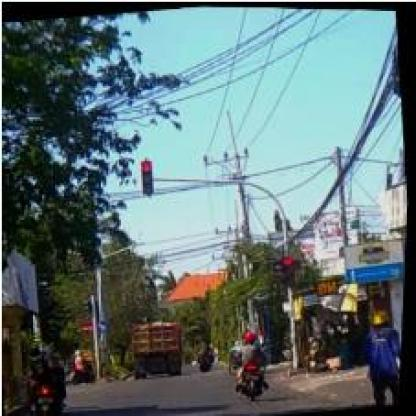red: (139, 158, 158, 194), (282, 251, 301, 284)
